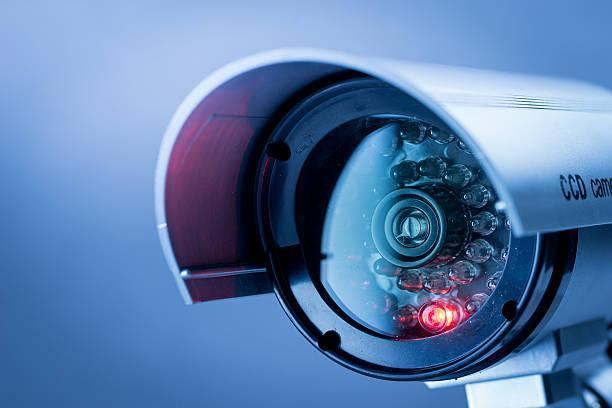camera: (134, 21, 612, 408)
